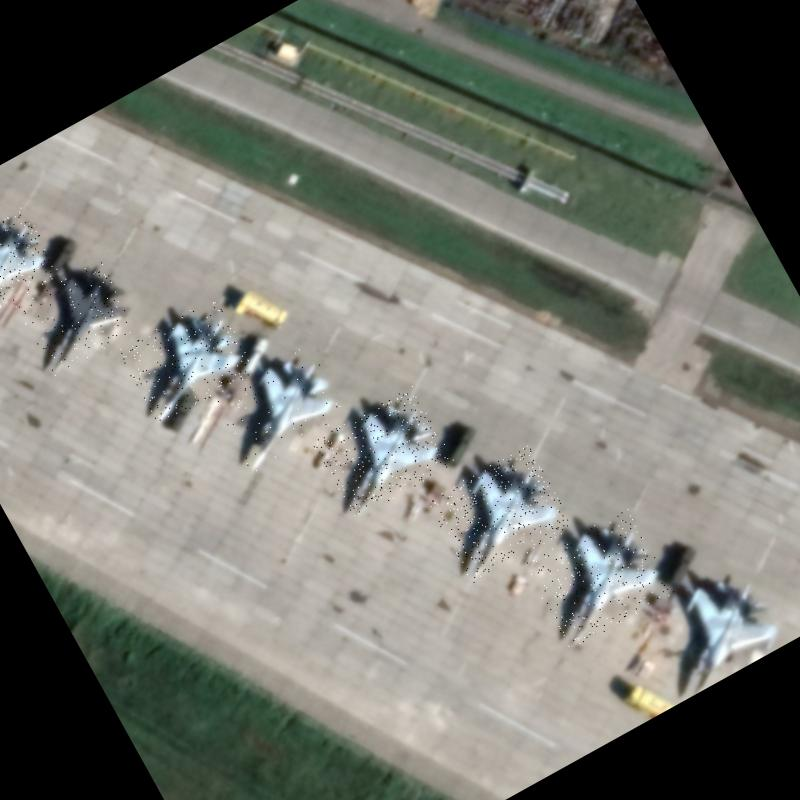A1: (522, 507, 674, 650), (426, 443, 574, 584), (644, 558, 789, 696), (310, 385, 456, 519), (208, 342, 351, 474), (116, 296, 257, 426), (16, 258, 140, 376), (0, 205, 61, 326)
